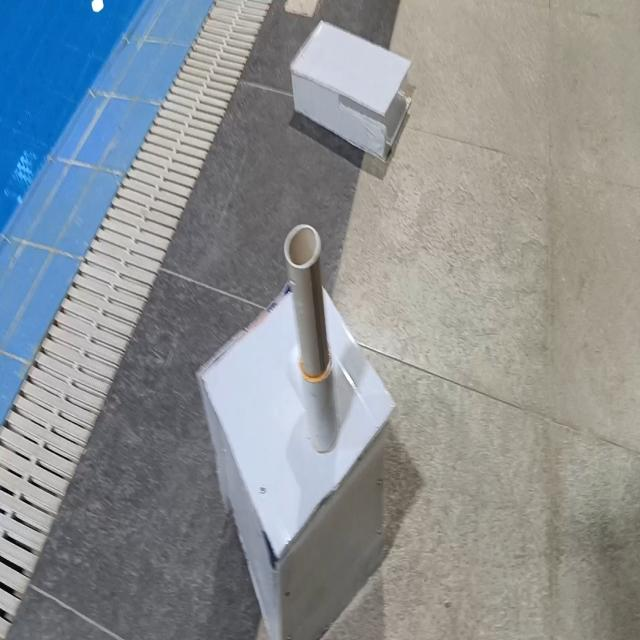Cube: (195, 276, 396, 637)
Cuboid: (289, 18, 412, 162)
